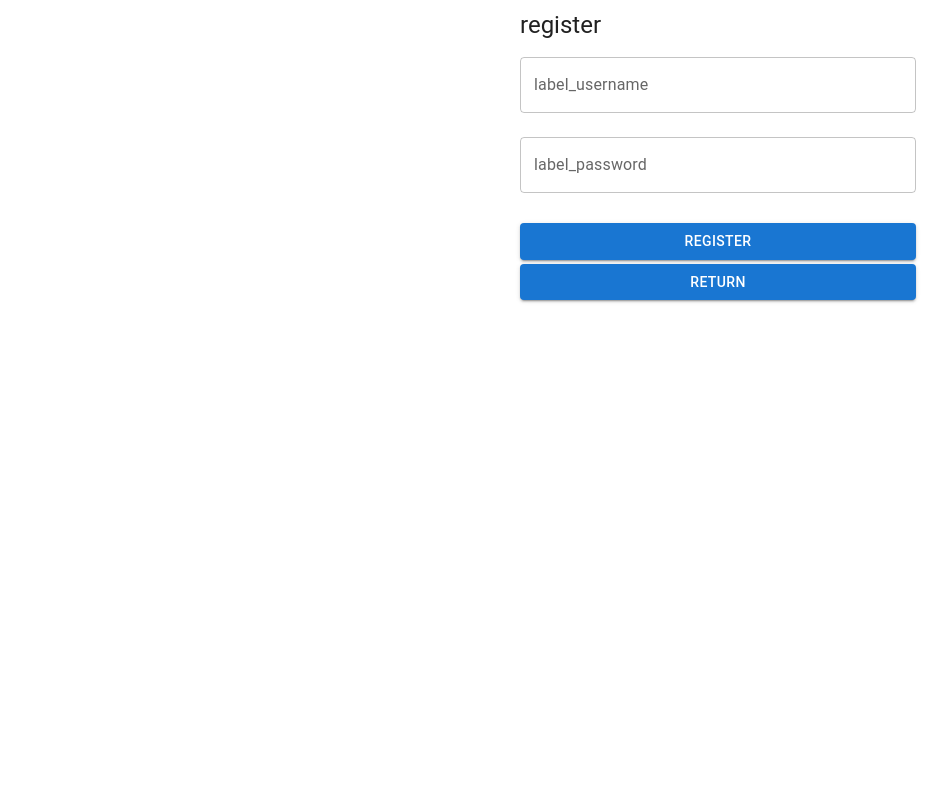
Test: Register component › should handle error when adding user
Note: Simulate user input
In the field labelled "label_username": (718, 85) left=520, top=57, right=916, bottom=113, type "testUser"
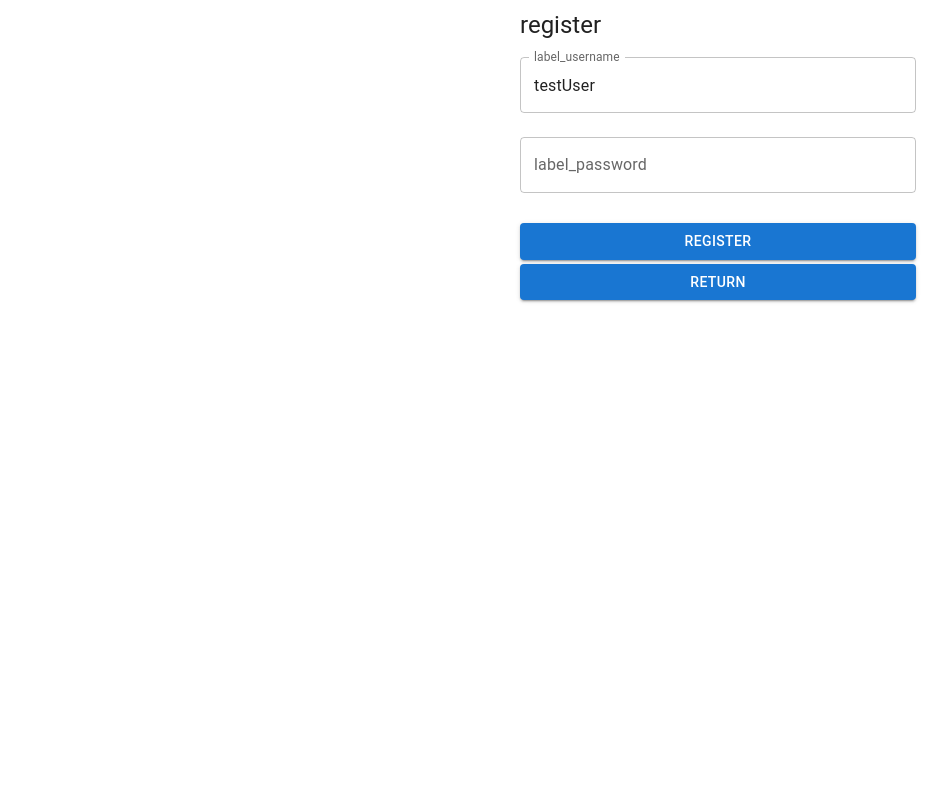
In the password field labelled "label_password": (718, 165) left=520, top=137, right=916, bottom=193, type "testPassword"
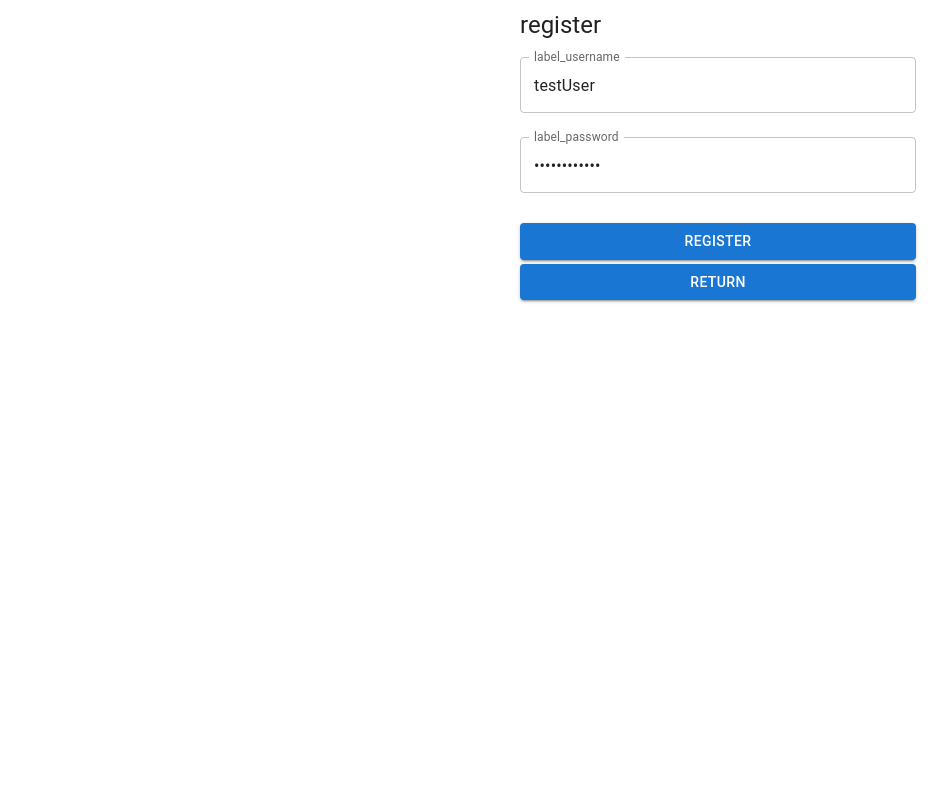
Note: Trigger the add user button click
Click the button "register": click(718, 241) left=520, top=223, right=916, bottom=260
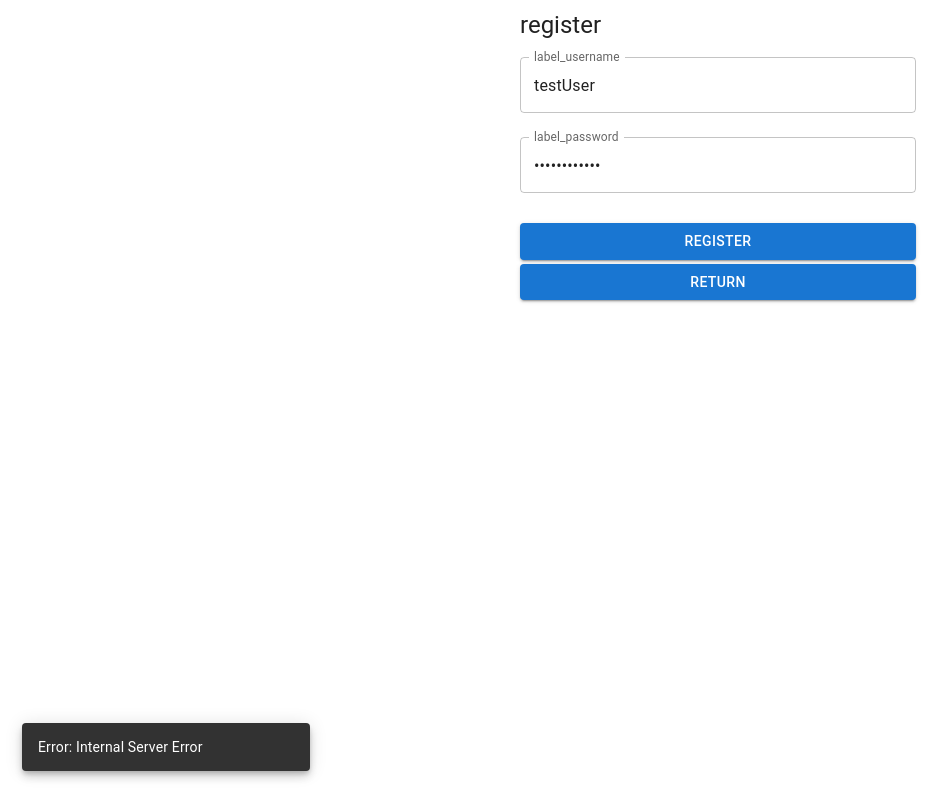
Check: the element with test id "register-error-snackbar" is shown, box left=22, top=723, right=310, bottom=771
